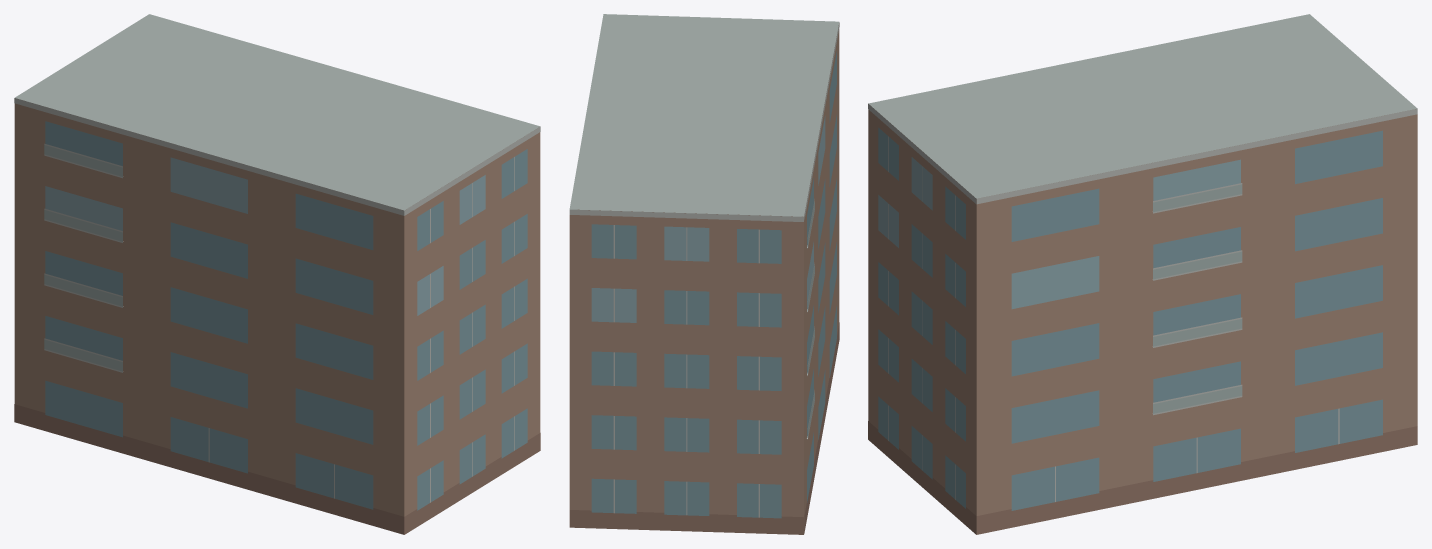
File: survey-upis-32707368.glb
3 views of the same model, side by side, from view 1: azimuth 30°, elevation 25°; view 2: azimuth 150°, elevation 25°; view 3: azimuth 270°, elevation 25° (orthographic). The views are drawn at different scales.
Visible parts, largest first — view 1: survey-upis-32707368.tmp; view 2: survey-upis-32707368.tmp; view 3: survey-upis-32707368.tmp.
Boxes of the visible parts, bbox=[...] form: survey-upis-32707368.tmp: bbox=[14, 14, 540, 534]; survey-upis-32707368.tmp: bbox=[569, 14, 839, 534]; survey-upis-32707368.tmp: bbox=[868, 14, 1417, 534].
Size of the model in its own units: 17.1 by 14.5 by 21.49.
